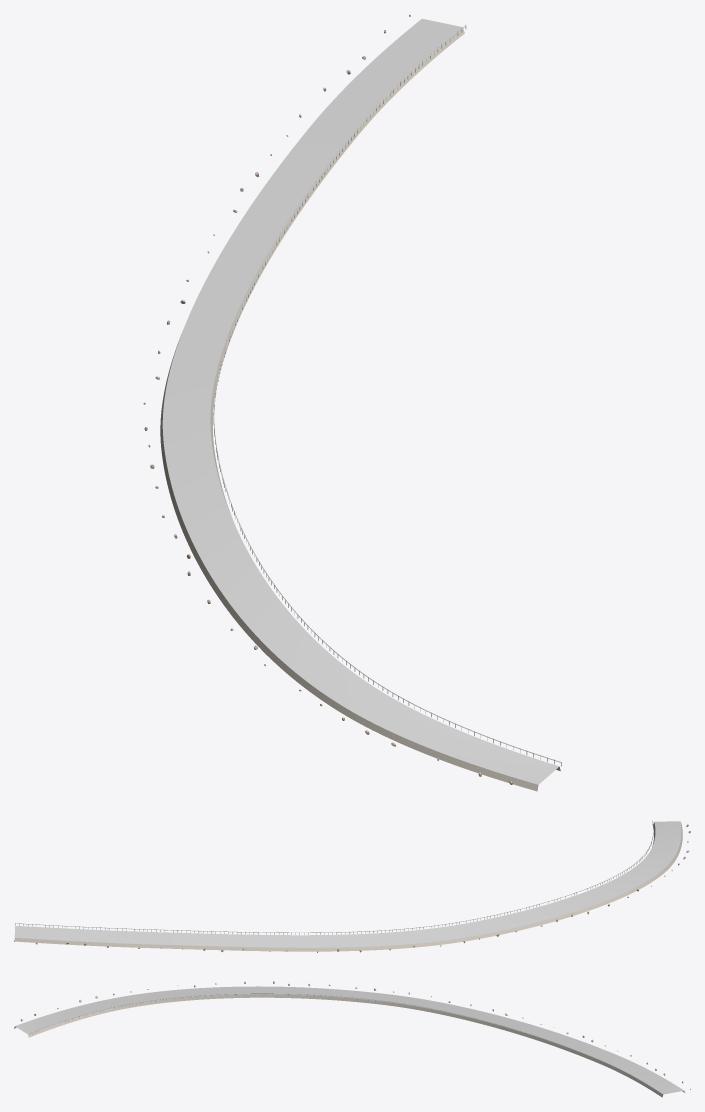
The model's file is SM_AsirMountains_Track_09.fbx.
3 renders of one model, top to bottom at view 1: azimuth 30°, elevation 25°; view 2: azimuth 150°, elevation 25°; view 3: azimuth 270°, elevation 25°, orthographic. The views are drawn at different scales.
Parts seen in each view (by area): view 1: SM_AsirMountains_Track_09; view 2: SM_AsirMountains_Track_09; view 3: SM_AsirMountains_Track_09.
Boxes of the visible parts, x1,y1,x2,y2 form: SM_AsirMountains_Track_09: [143, 14, 561, 791]; SM_AsirMountains_Track_09: [14, 820, 690, 952]; SM_AsirMountains_Track_09: [14, 981, 690, 1097].
Bounding box in the file's own units: 19825 × 4198 × 33898.
